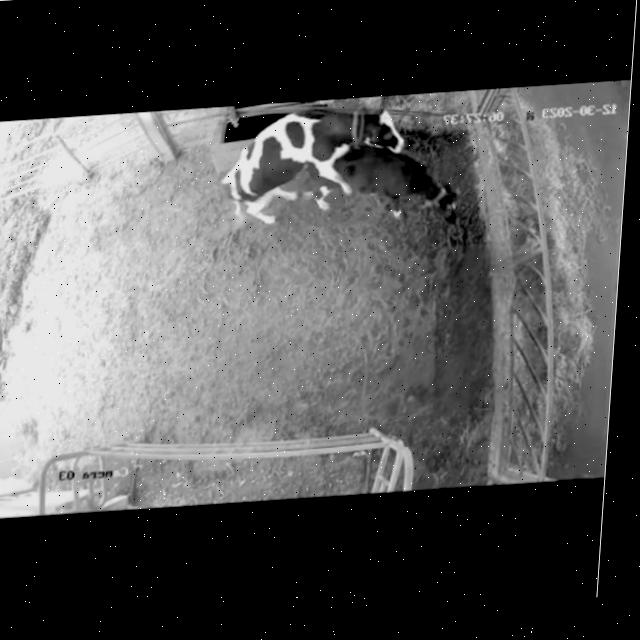ride: (205, 97, 413, 246)
stand: (320, 143, 469, 244)
